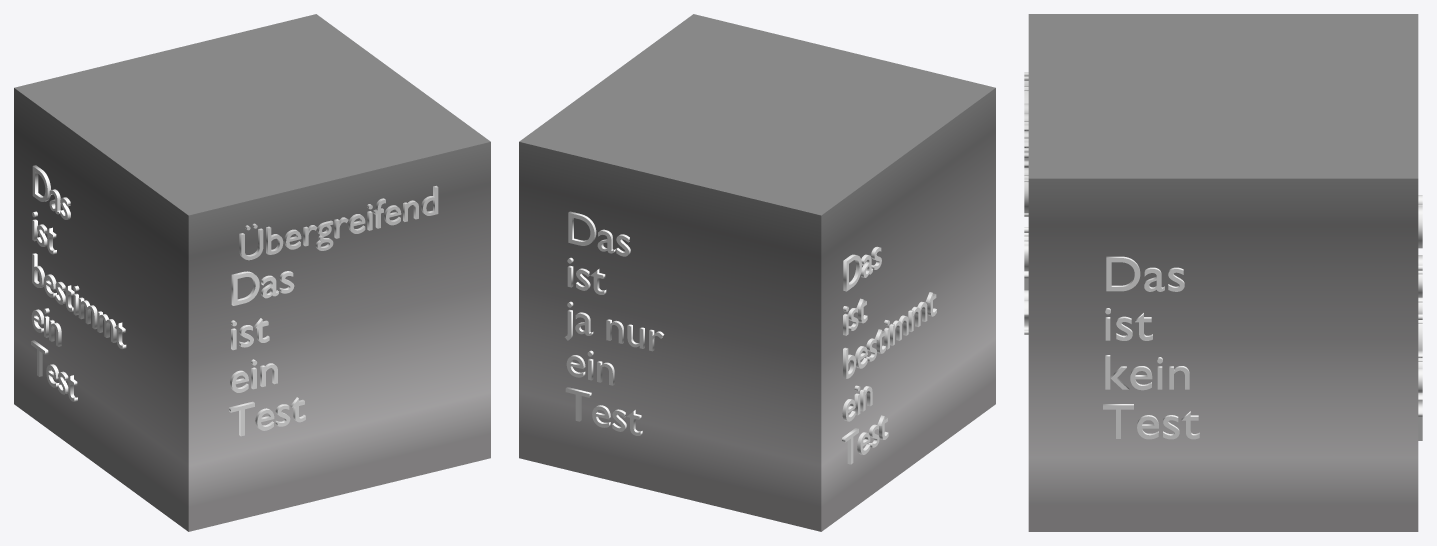
Rendered from Ubergreifend.glb.
3 views of the same model, side by side, from view 1: azimuth 30°, elevation 25°; view 2: azimuth 150°, elevation 25°; view 3: azimuth 270°, elevation 25° (orthographic). The views are drawn at different scales.
Visible parts, largest first — view 1: Cube, T2 Linke Seite, T1 Frontseite, Text; view 2: Cube, T2 Linke Seite, T4 Rückseite; view 3: Cube, T3 Rechte Seite, T4 Rückseite, Text, T1 Frontseite.
Boxes of the visible parts, x1,y1,x2,y2 form: Cube: (14,14,490,531); T2 Linke Seite: (31,165,126,401); T1 Frontseite: (229,271,305,436); Text: (239,185,438,260); Cube: (519,14,995,531); T2 Linke Seite: (842,246,936,464); T4 Rückseite: (565,211,664,435); Cube: (1028,14,1418,531); T3 Rechte Seite: (1103,256,1199,439); T4 Rückseite: (1418,195,1422,440); Text: (1024,72,1028,213); T1 Frontseite: (1024,213,1028,334).
Size of the model in its own units: 2.04 by 2 by 2.04.
5 materials, 1 textured.
